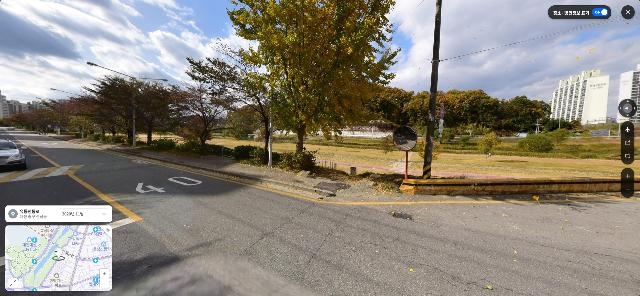ginkgo: (226, 0, 402, 154)
other: (186, 39, 284, 166), (82, 73, 188, 147), (162, 82, 244, 149), (61, 96, 132, 145), (47, 106, 111, 142), (25, 105, 83, 139), (478, 129, 499, 163)
